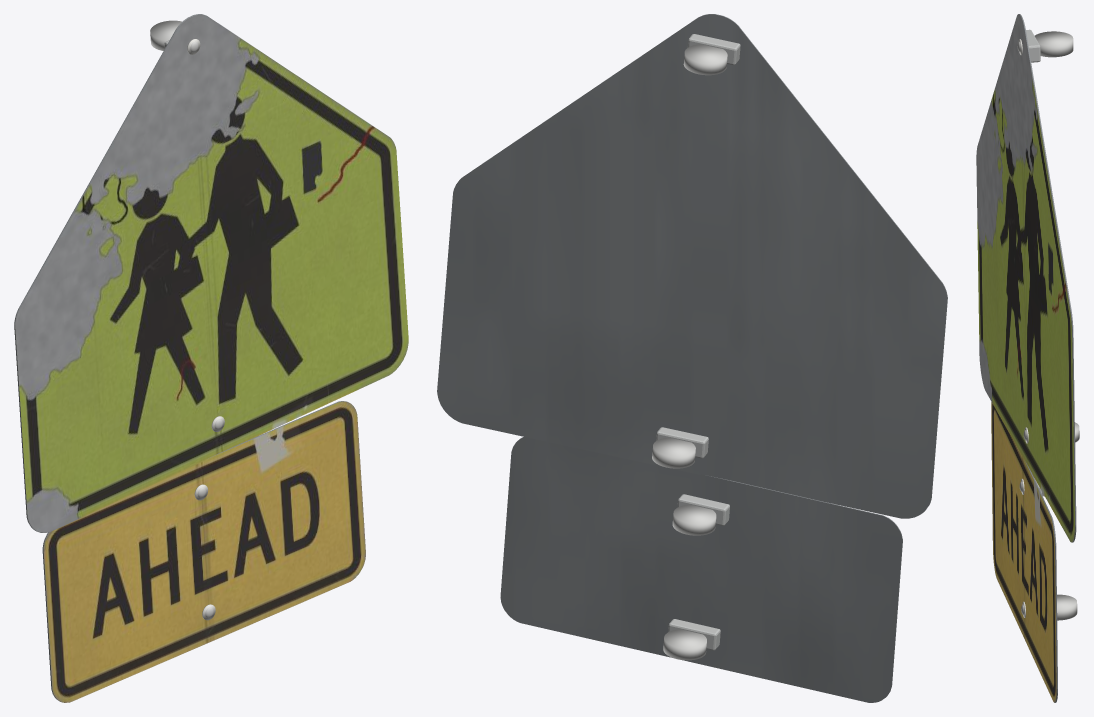
File: schoolAhead-v1-battered.glb
3 renders of one model, left to right at view 1: azimuth 30°, elevation 25°; view 2: azimuth 150°, elevation 25°; view 3: azimuth 270°, elevation 25°, orthographic. The views are drawn at different scales.
Parts seen in each view (by area): view 1: schoolAhead-v1-battered; view 2: schoolAhead-v1-battered; view 3: schoolAhead-v1-battered.
Part boxes in pixels (left/top/right/bottom): schoolAhead-v1-battered: left=14, top=14, right=408, bottom=702; schoolAhead-v1-battered: left=437, top=14, right=947, bottom=702; schoolAhead-v1-battered: left=976, top=14, right=1079, bottom=702.
Size of the model in its own units: 0.7699 by 1.07 by 0.1593.
Materials: 1 (1 with a texture image).
